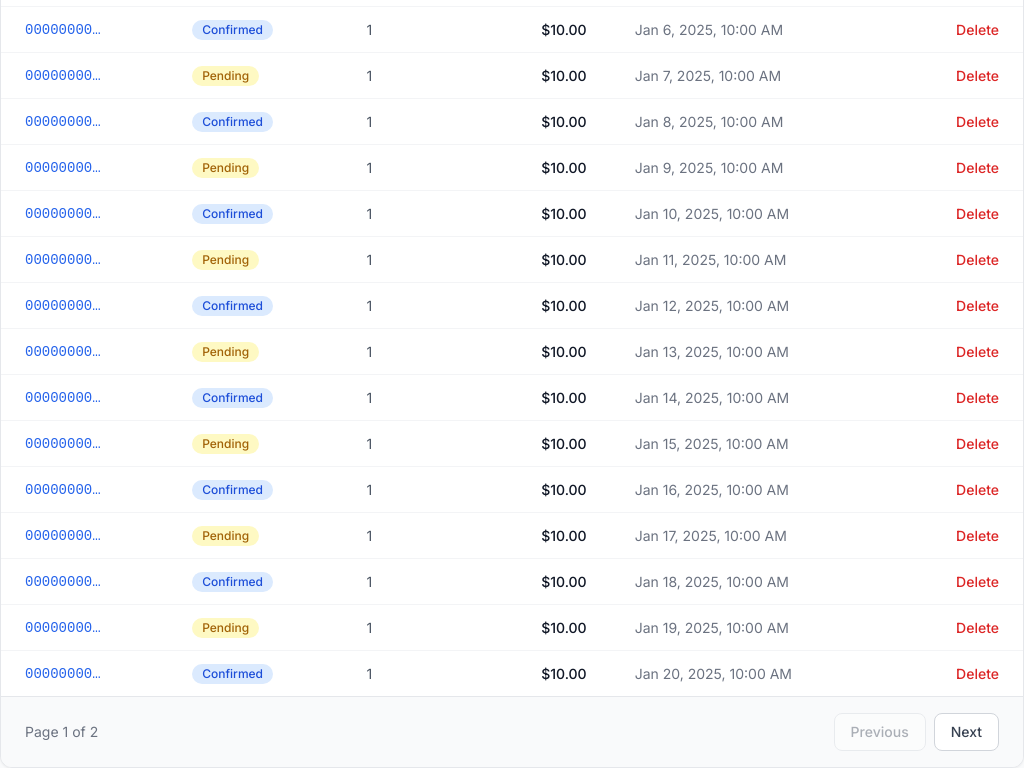
Test case: OrdersPage › paginates through orders
(page scrolled)
expect the text "Page 1 of 2" is shown: met, box [25,722,98,742]
// Go to page 2
Click the button "Next" at [966, 732], box [934,713,999,751]
(page scrolled)
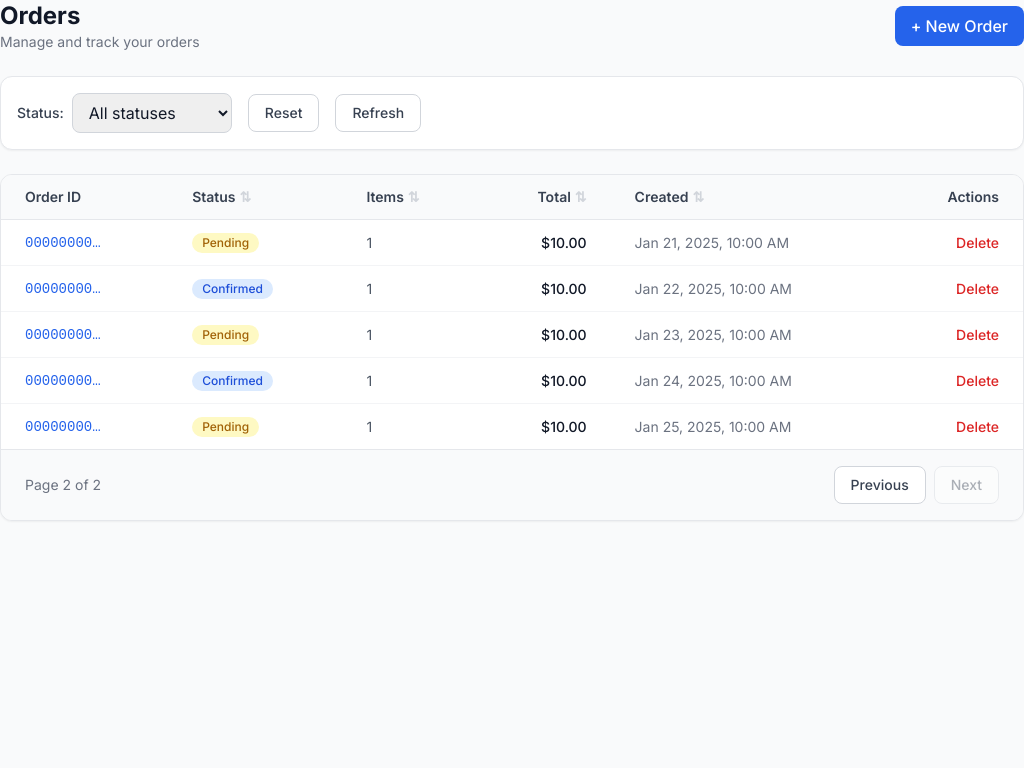
expect the text "Page 2 of 2" is shown: met, box [25,475,101,495]
expect the button "Previous" is enabled: met, box [834,466,926,504]
expect the button "Next" is disabled: met, box [934,466,999,504]
